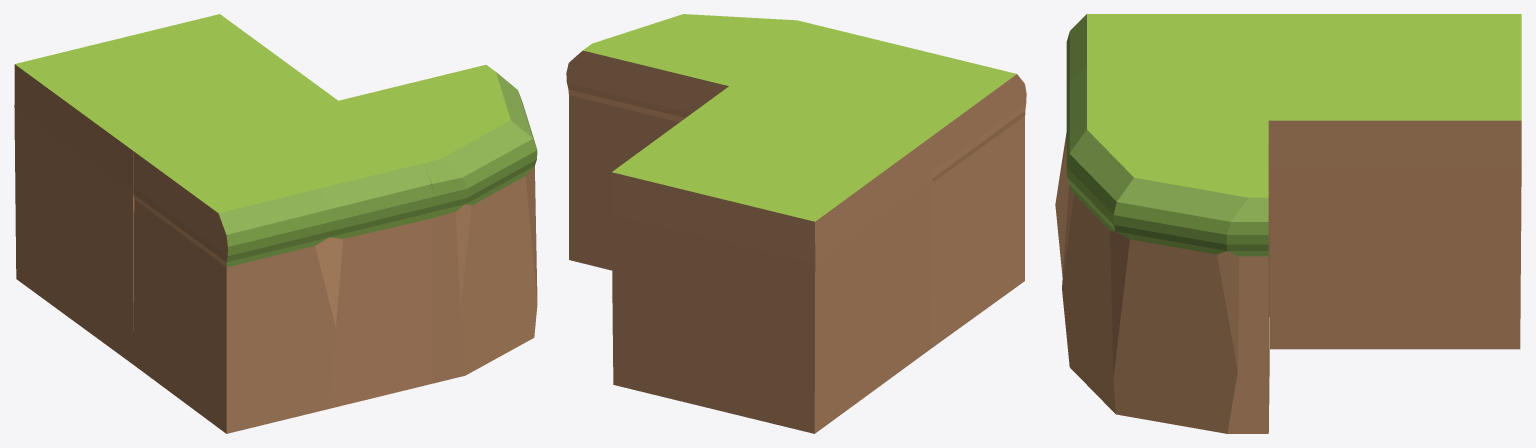
File: testOrigin.fbx
3 renders of one model, left to right at view 1: azimuth 30°, elevation 25°; view 2: azimuth 150°, elevation 25°; view 3: azimuth 270°, elevation 25°, orthographic. The views are drawn at different scales.
Visible parts, largest first — view 1: Cube.054, Cube.052, Cube.053; view 2: Cube.052, Cube.054, Cube.053; view 3: Cube.052, Cube.053, Cube.054.
Part boxes in pixels (<box>): Cube.054: <box>133,100,433,433</box>; Cube.052: <box>14,14,337,364</box>; Cube.053: <box>339,65,537,383</box>; Cube.052: <box>611,86,932,433</box>; Cube.054: <box>729,24,1026,348</box>; Cube.053: <box>566,14,813,270</box>; Cube.052: <box>1268,14,1521,349</box>; Cube.053: <box>1062,120,1269,433</box>; Cube.054: <box>1055,14,1268,276</box>.
Size of the model in its own units: 1.82 by 1.85 by 1.
